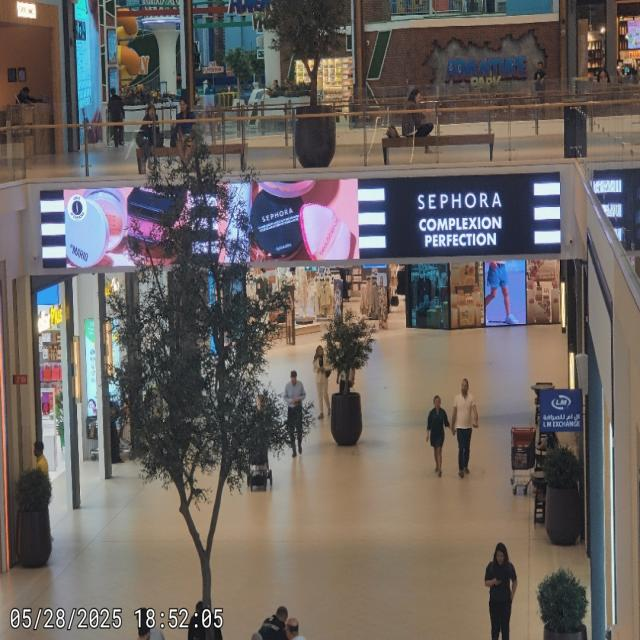rectangle-wide-board: (38, 171, 562, 270)
